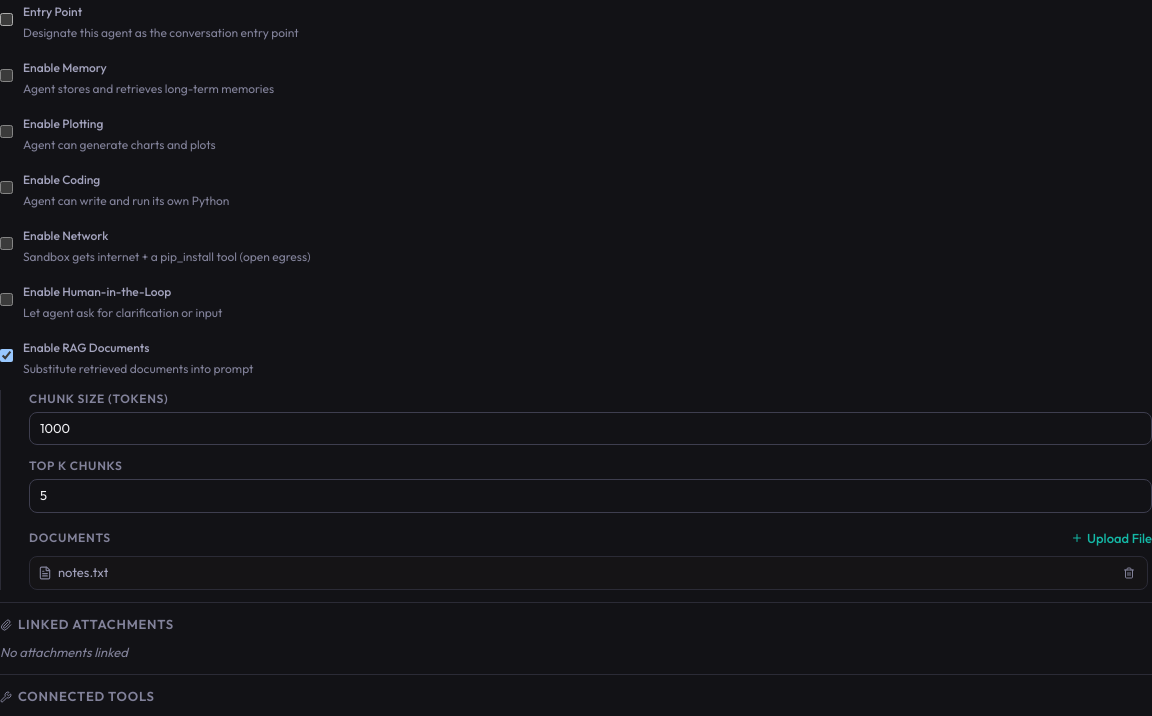
AgentEditor › shows an in-app toast (not native alert) when document deletion fails
(page scrolled)
Expected: the text "notes.txt" is shown, [58,563,108,583]
Click the button with test id "agent-delete-document-doc-1".
click(1129, 573)  # box [1119,563,1139,583]
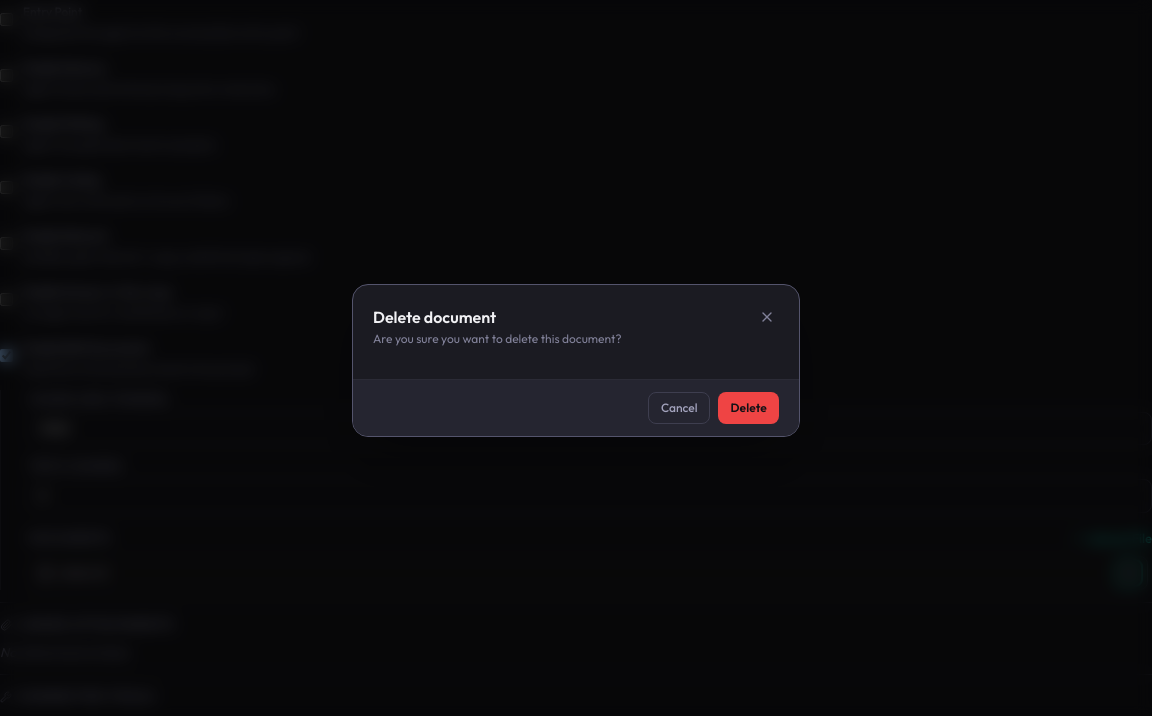
Click the button "Delete".
click(749, 408)  # box [718,392,779,424]
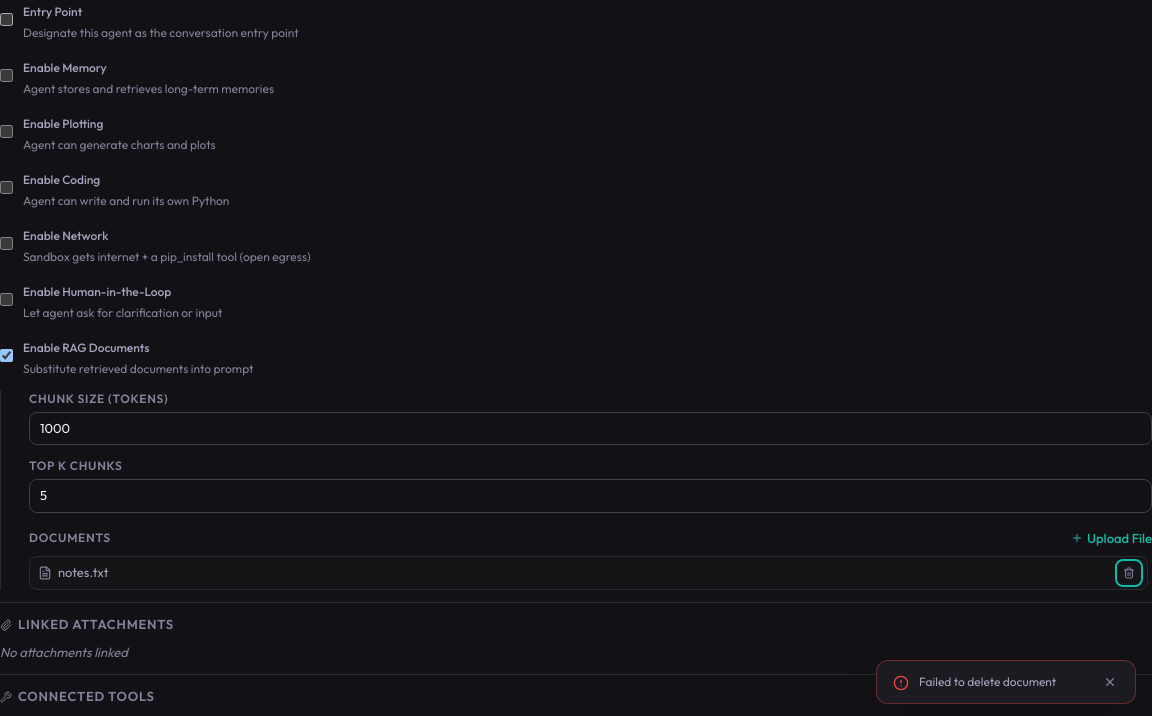
Expected: the message reads "Failed to delete document", [919,674,1056,689]
